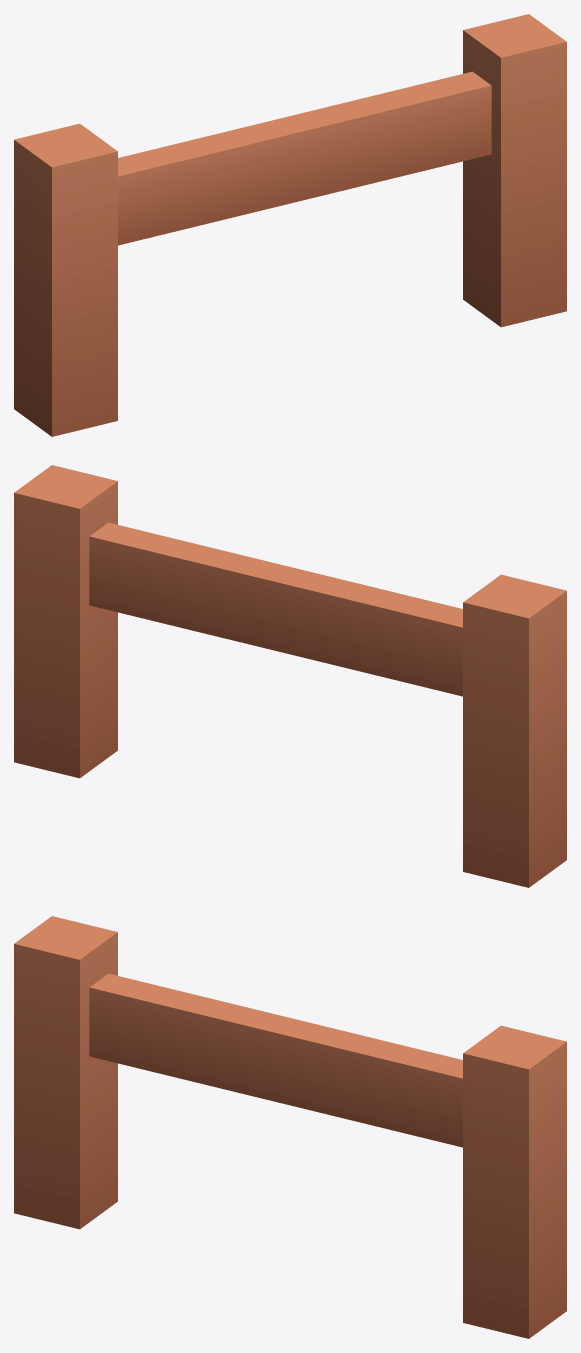
File: wood-structure-part.glb
The picture shows the model from 3 angles, top to bottom: view 1: azimuth 30°, elevation 25°; view 2: azimuth 150°, elevation 25°; view 3: azimuth 330°, elevation 25°; orthographic projection.
Visible parts, largest first — view 1: wood-structure-part; view 2: wood-structure-part; view 3: wood-structure-part.
Boxes of the visible parts, x1,y1,x2,y2 form: wood-structure-part: [14, 14, 566, 436]; wood-structure-part: [14, 465, 566, 887]; wood-structure-part: [14, 916, 566, 1338].
Bounding box in the file's own units: 1 × 0.5001 × 0.1279.
Materials: 1 (1 with a texture image).
